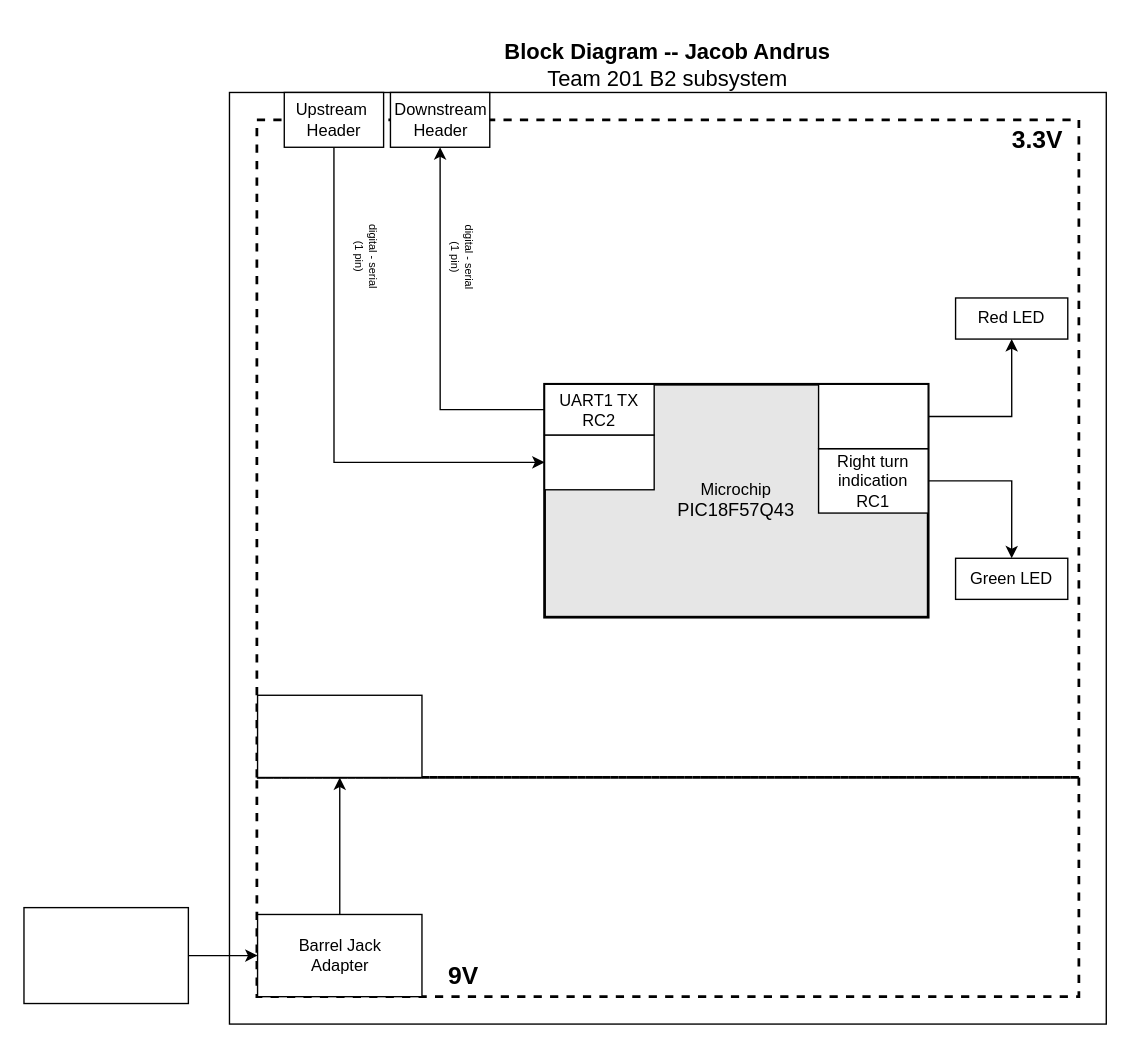
This 1130x1048 diagram has some shape labels left out. Each missing label, with the centre of its shape:
3.3V 1.5A Switching Power Supply: the point at 339,735
9V 3A AC-DC Wall Power Supply: the point at 105,955
Left turn indication RC0: the point at 872,416
UART1 RX RC3: the point at 598,462
